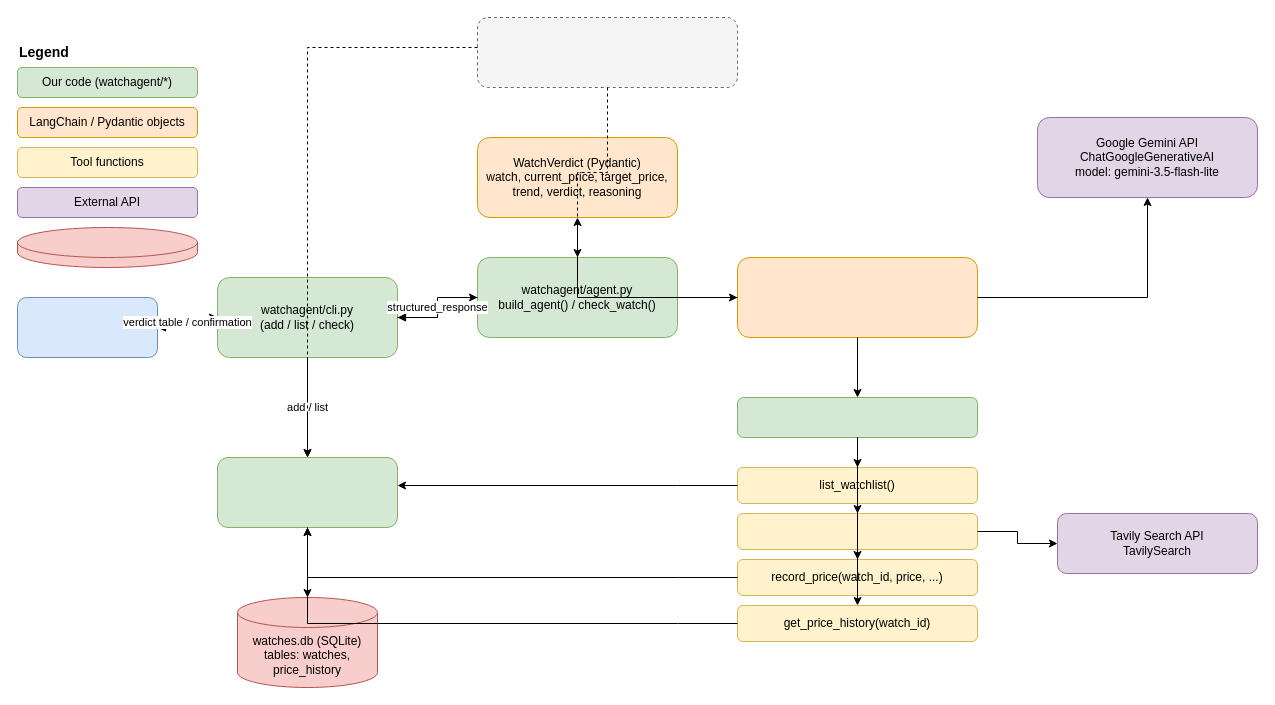
Image size: 1275x705. Some labels were removed from this diagram. The box of each missing label's shape, as (x1, y1, x2, y2) in pixels:
LangChain create_agent() system_prompt + response_format=WatchVerdict: (736, 256, 978, 338)
search_watch_price(query): (736, 512, 978, 550)
Storage: (16, 226, 198, 268)
User (terminal): (16, 296, 158, 358)
watchagent/config.py .env: GOOGLE_API_KEY, TAVILY_API_KEY, GEMINI_MODEL: (476, 16, 738, 88)
watchagent/db.py SQLite CRUD: (216, 456, 398, 528)
watchagent/tools.py: (736, 396, 978, 438)
